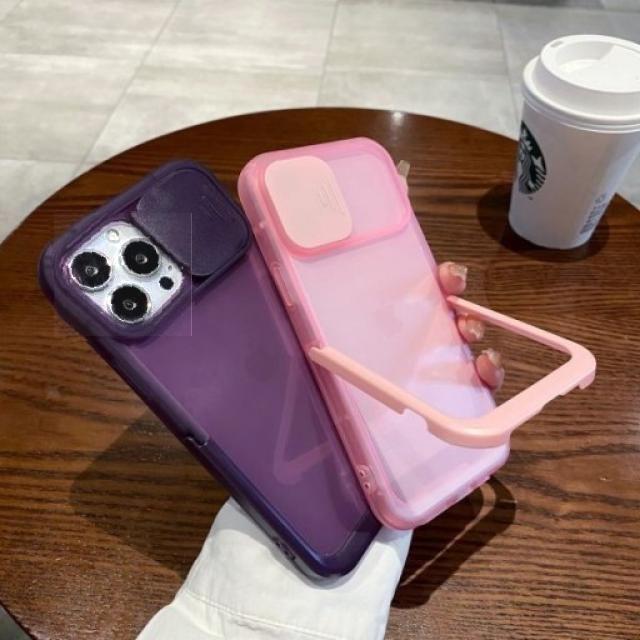phone: (48, 164, 384, 572)
